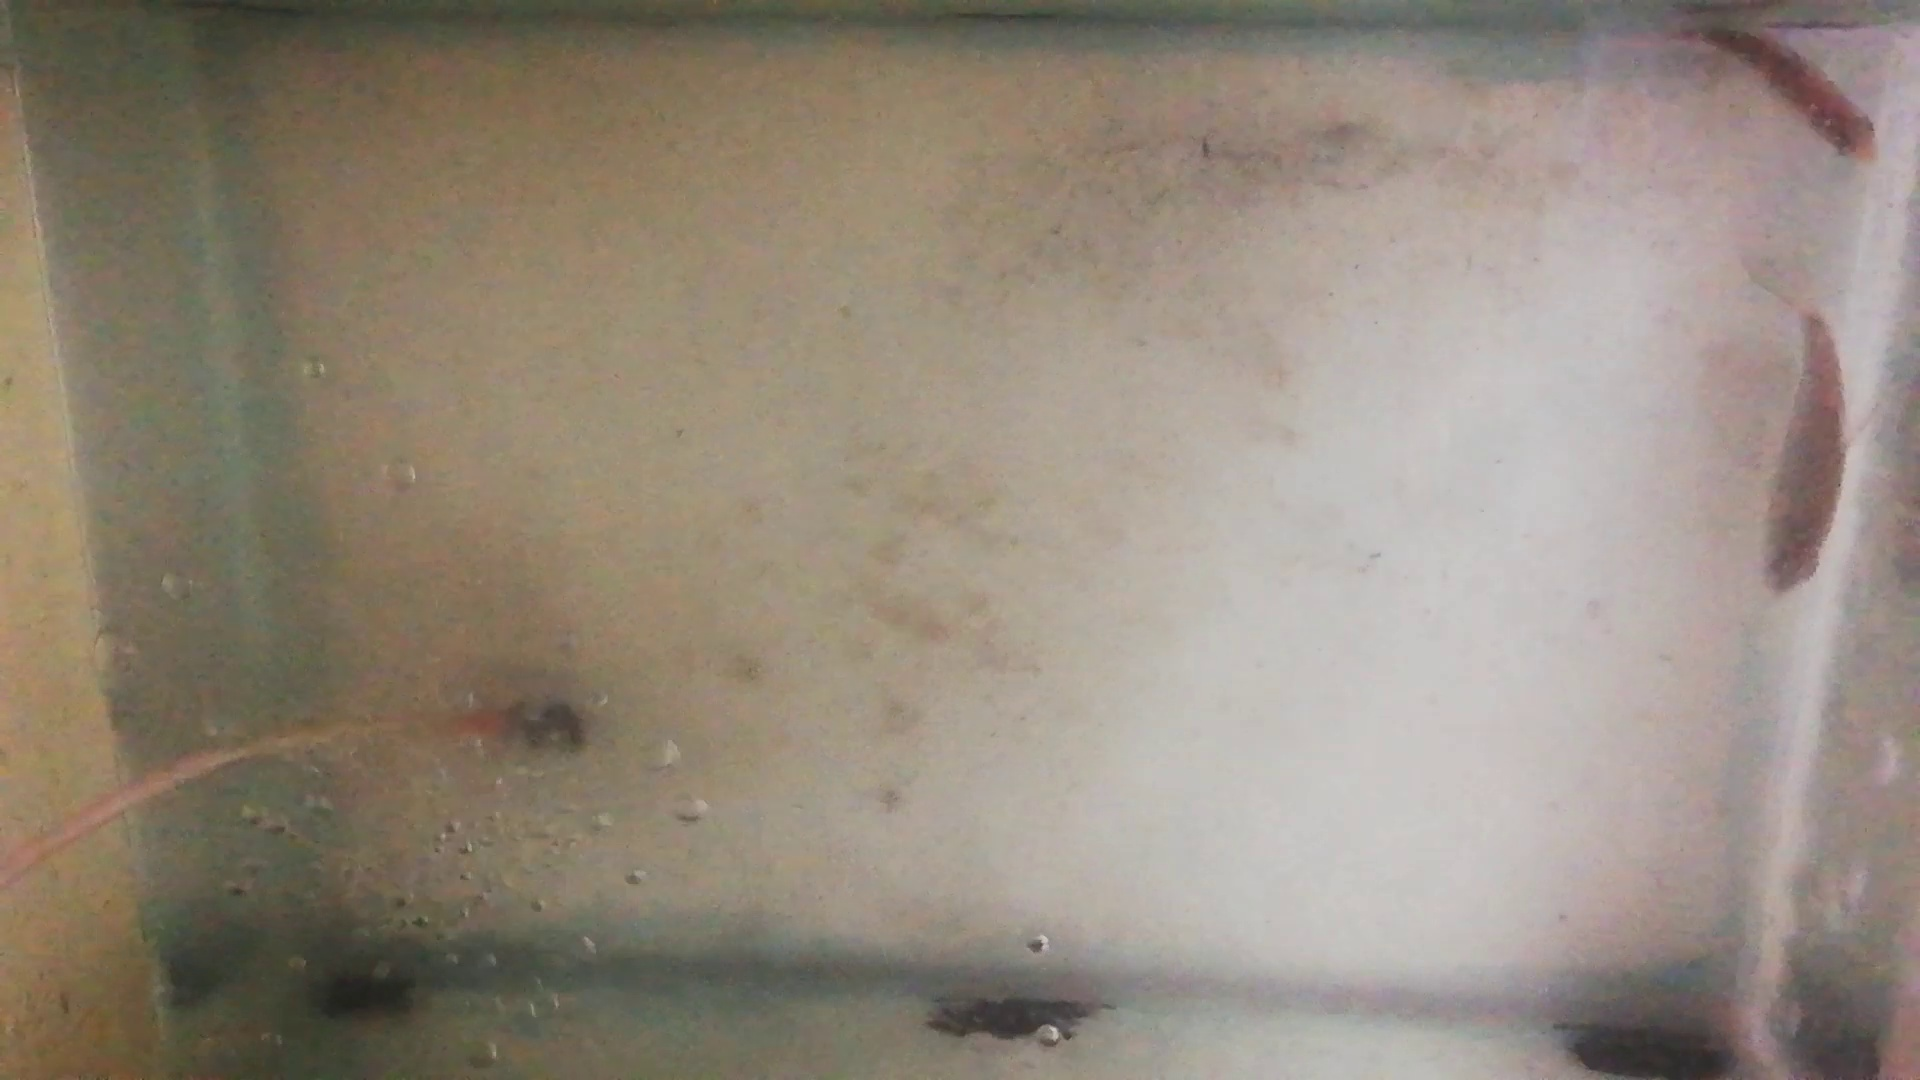fish: (1662, 24, 1880, 165), (1756, 311, 1847, 593)
